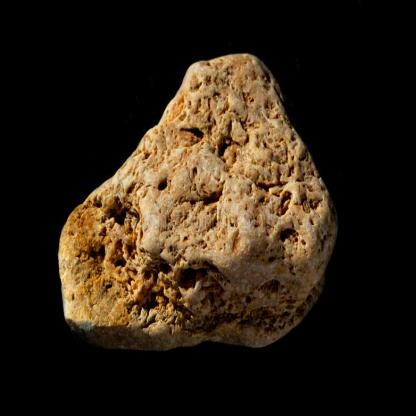Sedimentary_Limestone: (55, 44, 337, 367)
